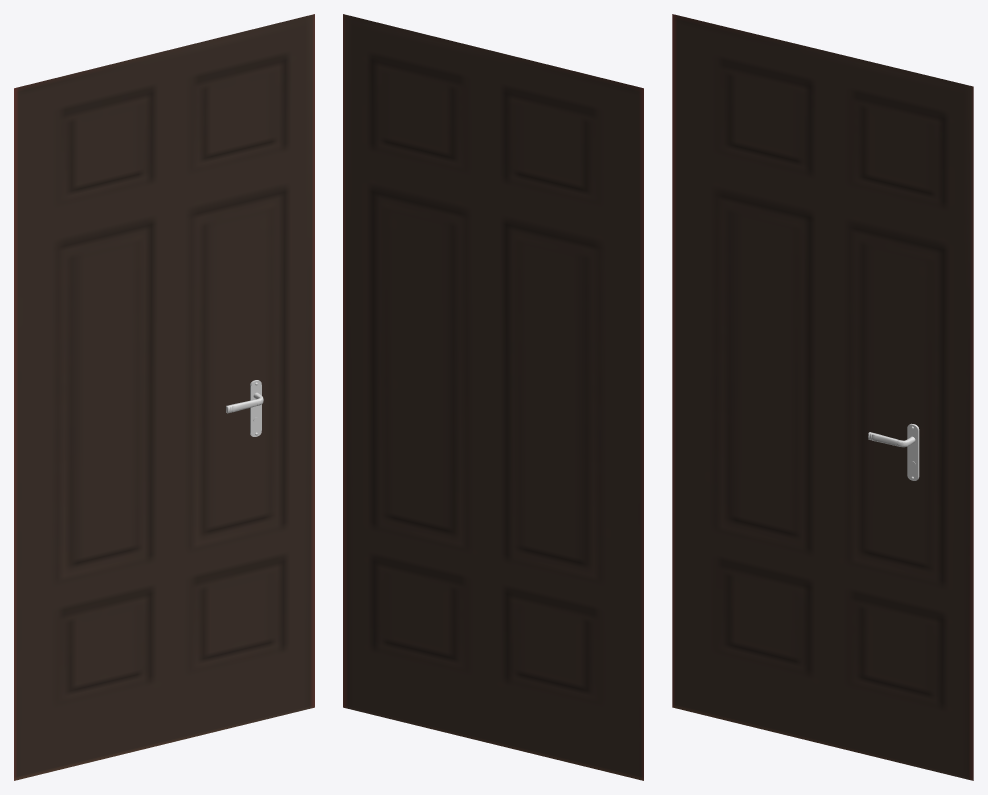
Rendered from post_door.fbx.
The picture shows the model from 3 angles, left to right: view 1: azimuth 30°, elevation 25°; view 2: azimuth 150°, elevation 25°; view 3: azimuth 330°, elevation 25°; orthographic projection.
Visible parts, largest first — view 1: post_door, ruchka; view 2: post_door; view 3: post_door, ruchka.
Part boxes in pixels (bbox=[...]): post_door: bbox=[14, 14, 314, 780]; ruchka: bbox=[226, 380, 263, 436]; post_door: bbox=[343, 14, 643, 780]; post_door: bbox=[672, 14, 973, 780]; ruchka: bbox=[868, 423, 919, 480].
Size of the model in its own units: 0.9601 by 2.12 by 0.0526.
